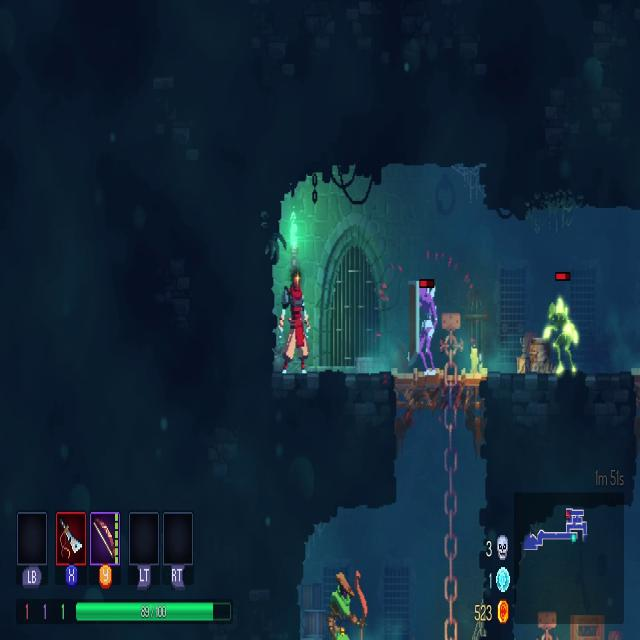agents: (280, 272, 311, 376)
enemy_archer: (328, 568, 367, 638)
enemy_green_puncher: (542, 291, 582, 375)
enemy_purple_shield: (406, 278, 438, 378)
wood_floor: (392, 369, 483, 414)
